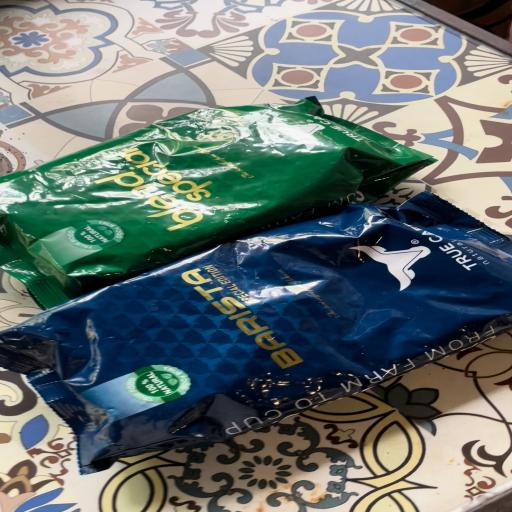cafe_hat: (0, 191, 512, 473)
cafe_xay: (0, 97, 433, 309)
